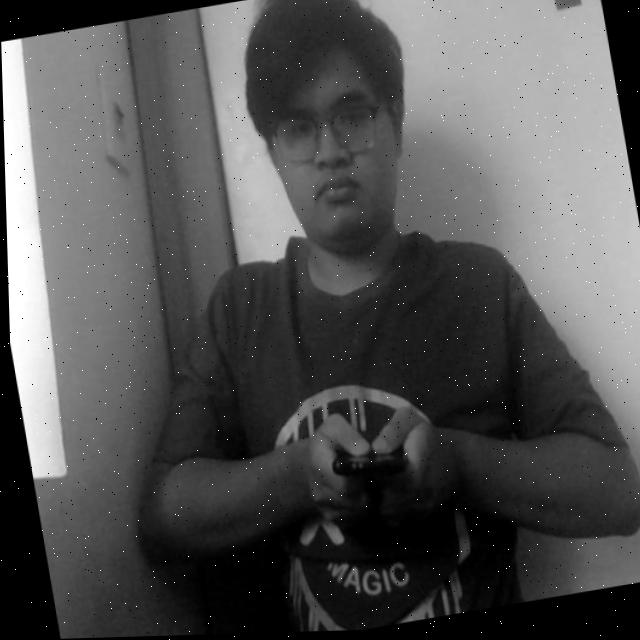phone: (318, 401, 419, 521)
